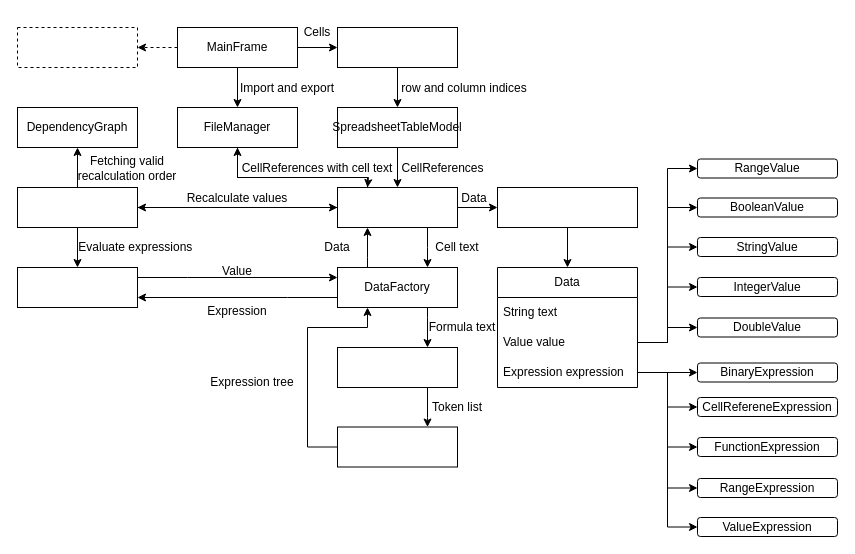
Some shapes in this 855 by 554 pixel diagram are drawn without their labels. Here are the shapes that lost their labels. From the top down, the centre of each, then its label:
At (x=77, y=47): "DebugPanel".
At (x=397, y=47): "SpreadsheetTable".
At (x=77, y=207): "DataWatcher".
At (x=397, y=207): "DataManager".
At (x=567, y=207): "DataContainer".
At (x=77, y=287): "ExpressionEvaluator".
At (x=397, y=367): "Tokenizer".
At (x=397, y=446): "Parser".
